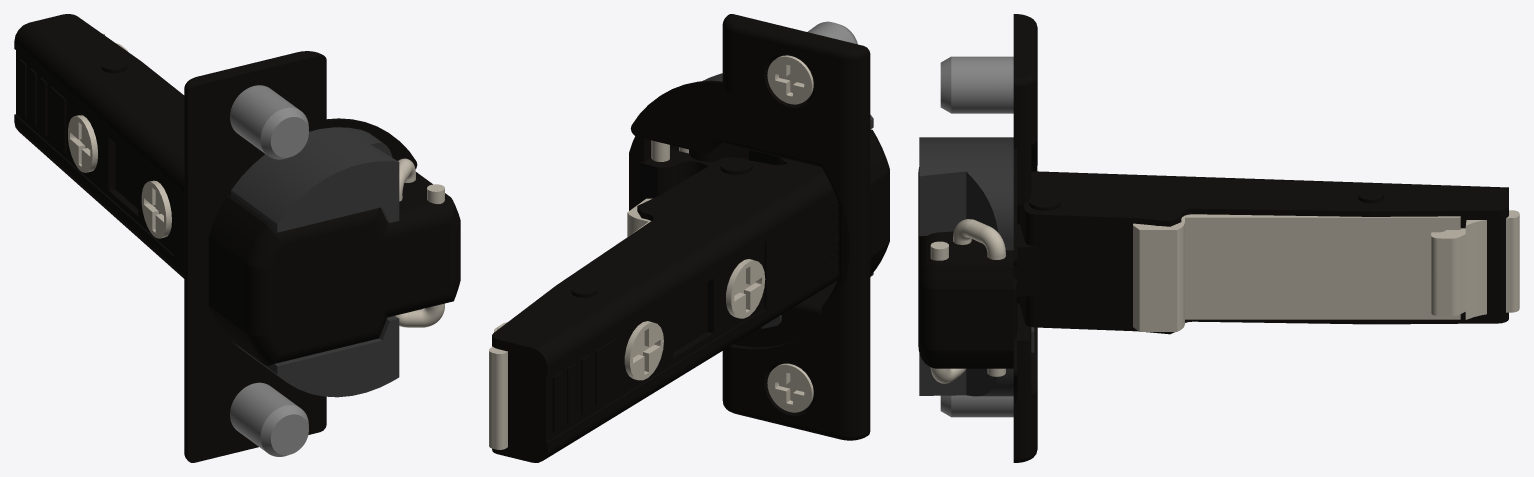
3 renders of one model, left to right at view 1: azimuth 30°, elevation 25°; view 2: azimuth 150°, elevation 25°; view 3: azimuth 270°, elevation 25°, orthographic. The views are drawn at different scales.
Parts seen in each view (by area): view 1: bau0015089612-1, bau0015088251-1, bau0059100308-2, bau0059100308-1; view 2: bau0015088251-1, bau0015089612-1, bau0059100308-2, bau0019416036-1, bau0015088853-1, bau0059100308-1, bau0015088783-1; view 3: bau0019416036-1, bau0015088251-1, bau0015089612-1, bau0059100308-2, bau0059100308-1, bau0015088853-1.
Boxes of the visible parts, x1,y1,x2,y2 form: bau0015089612-1: (184, 51, 460, 462); bau0015088251-1: (14, 14, 184, 278); bau0059100308-2: (230, 85, 308, 159); bau0059100308-1: (230, 382, 308, 456); bau0015088251-1: (492, 157, 838, 462); bau0015089612-1: (629, 14, 889, 440); bau0059100308-2: (767, 21, 857, 104); bau0019416036-1: (489, 198, 652, 449); bau0015088853-1: (639, 149, 715, 202); bau0059100308-1: (767, 363, 813, 412); bau0015088783-1: (689, 143, 792, 164); bau0019416036-1: (1133, 210, 1519, 331); bau0015088251-1: (1017, 171, 1508, 334); bau0015089612-1: (918, 14, 1037, 462); bau0059100308-2: (940, 56, 1013, 113); bau0059100308-1: (940, 395, 1013, 417); bau0015088853-1: (1013, 224, 1038, 338).
Size of the model in its own units: 36.9 by 57 by 80.73.
